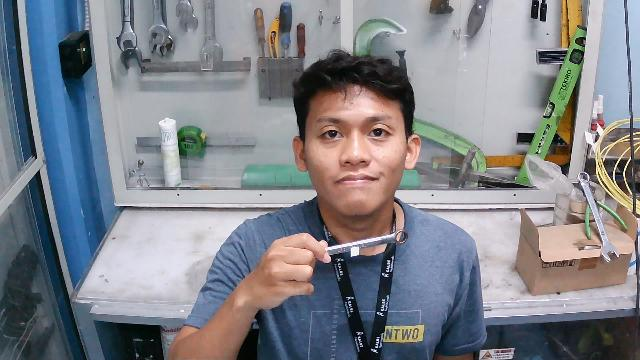kunci_pass_13: (291, 222, 420, 265)
